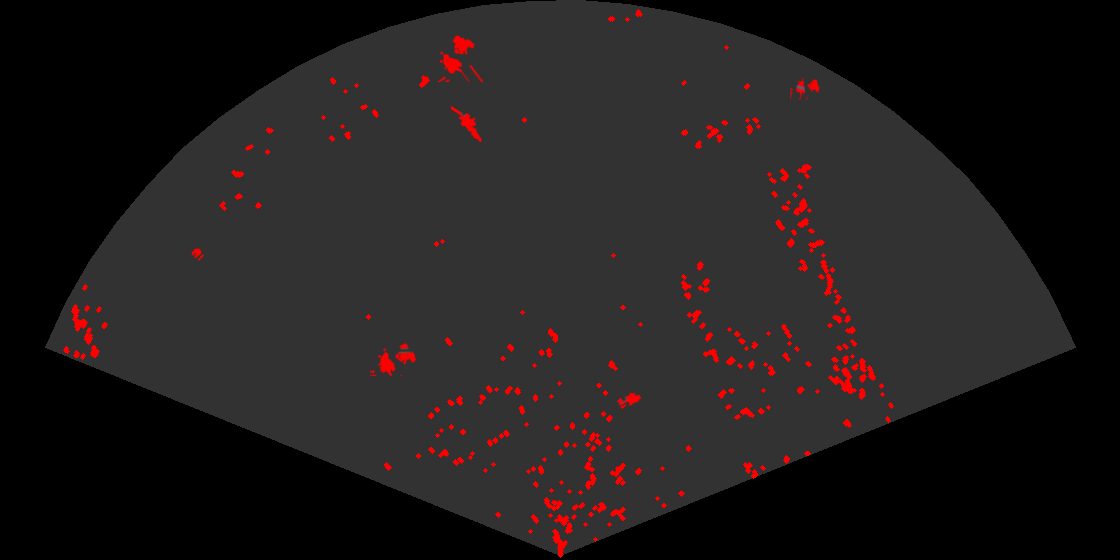AUV: (617, 391, 643, 407)
ball: (190, 247, 206, 262)
cage: (435, 34, 485, 82), (370, 341, 418, 376), (790, 76, 821, 100)
frogman: (451, 106, 485, 143)
